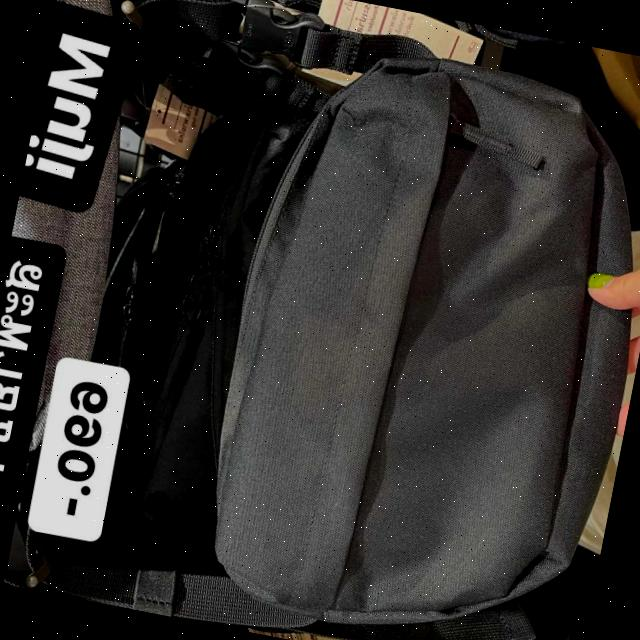handbag: (187, 41, 640, 640)
